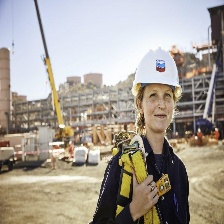helmet: (132, 47, 180, 93)
no-vest: (108, 142, 189, 224)
person: (104, 44, 191, 224)
